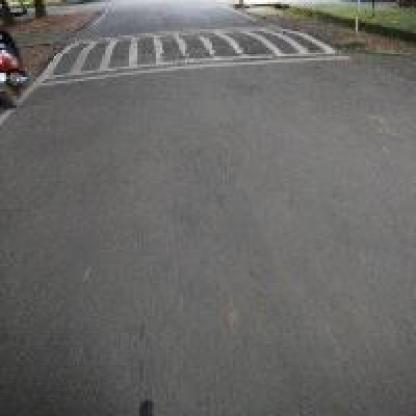Speed Bump: (42, 27, 339, 85)
